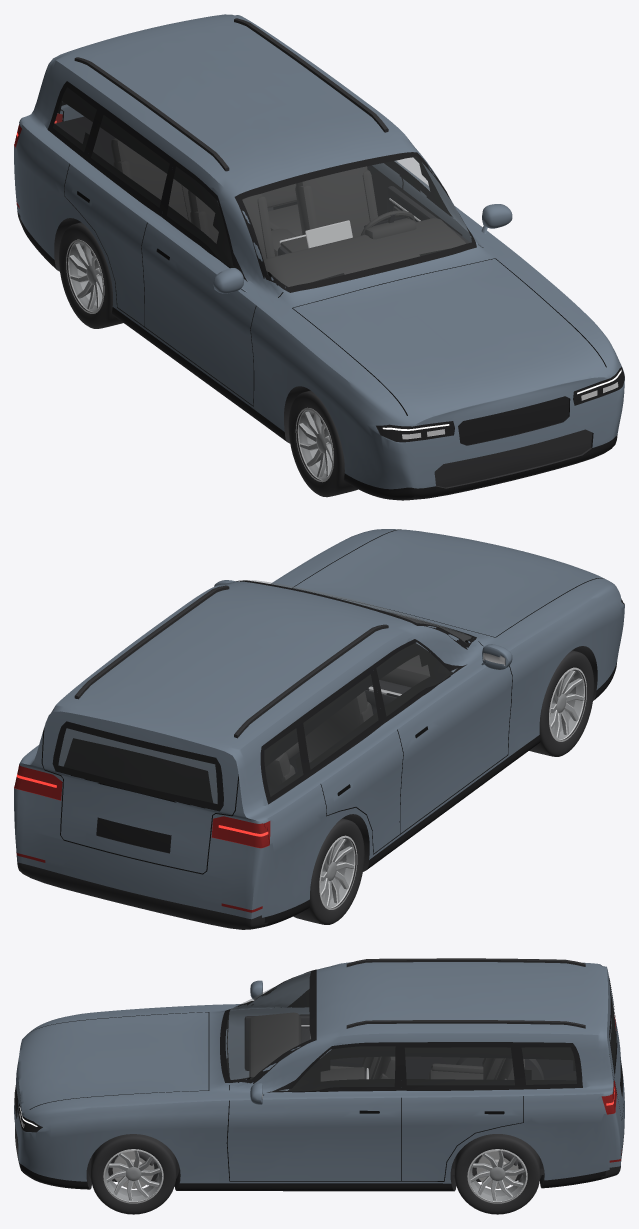
The model's file is h3-v4-estate.glb.
3 views of the same model, one above another, from view 1: azimuth 30°, elevation 25°; view 2: azimuth 150°, elevation 25°; view 3: azimuth 270°, elevation 25° (orthographic). The views are drawn at different scales.
Visible parts, largest first — view 1: body, glass_windshield, interior, glass_side_R, wheel_FR_mesh, wheel_RR_mesh, roof_rails, mirror_L, mirror_R; view 2: body, glass_side_R, glass_rear, wheel_RR_mesh, interior, wheel_FR_mesh, roof_rails, glass_windshield, mirror_R; view 3: body, glass_side_L, interior, glass_windshield, wheel_RL_mesh, wheel_FL_mesh, roof_rails, glass_rear.
Boxes of the visible parts, box(x1,y1,x2,y2) form: body: box(14, 14, 624, 500); glass_windshield: box(234, 152, 476, 292); interior: box(55, 116, 470, 286); glass_side_R: box(47, 81, 247, 281); wheel_FR_mesh: box(288, 390, 357, 497); wheel_RR_mesh: box(59, 222, 122, 328); roof_rails: box(74, 18, 388, 171); mirror_L: box(481, 204, 512, 233); mirror_R: box(213, 268, 247, 293); body: box(14, 529, 624, 929); glass_side_R: box(260, 639, 466, 804); glass_rear: box(52, 721, 223, 811); wheel_RR_mesh: box(293, 818, 364, 924); interior: box(265, 655, 430, 792); wheel_FR_mesh: box(529, 650, 594, 756); roof_rails: box(74, 585, 388, 738); glass_windshield: box(236, 580, 476, 649); mirror_R: box(481, 644, 512, 669); body: box(14, 962, 624, 1191); glass_side_L: box(267, 1042, 582, 1092); interior: box(244, 1012, 576, 1174); glass_windshield: box(220, 969, 316, 1083); wheel_RL_mesh: box(454, 1134, 540, 1214); wheel_FL_mesh: box(90, 1134, 176, 1214); roof_rails: box(346, 958, 585, 1028); glass_rear: box(609, 978, 617, 1075).
Bounding box in the file's own units: 2.08 × 1.5 × 4.7.
